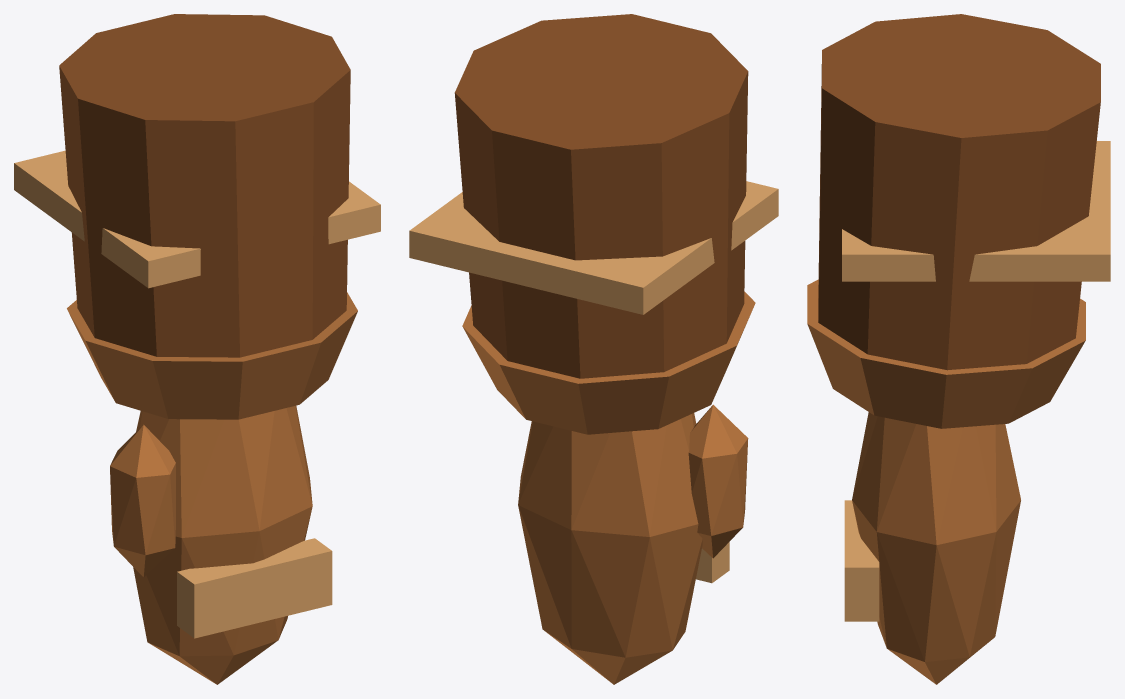
Rendered from gear_bronze_gauntlets_arm_l.glb.
3 views of the same model, side by side, from view 1: azimuth 30°, elevation 25°; view 2: azimuth 150°, elevation 25°; view 3: azimuth 270°, elevation 25° (orthographic).
Visible parts, largest first — view 1: gear_bronze_gauntlets_arm_l; view 2: gear_bronze_gauntlets_arm_l; view 3: gear_bronze_gauntlets_arm_l.
Boxes of the visible parts, left/top/right/bottom form: gear_bronze_gauntlets_arm_l: left=14, top=14, right=380, bottom=684; gear_bronze_gauntlets_arm_l: left=409, top=14, right=778, bottom=684; gear_bronze_gauntlets_arm_l: left=807, top=14, right=1110, bottom=684.
Size of the model in its own units: 0.118 by 0.2731 by 0.122.
